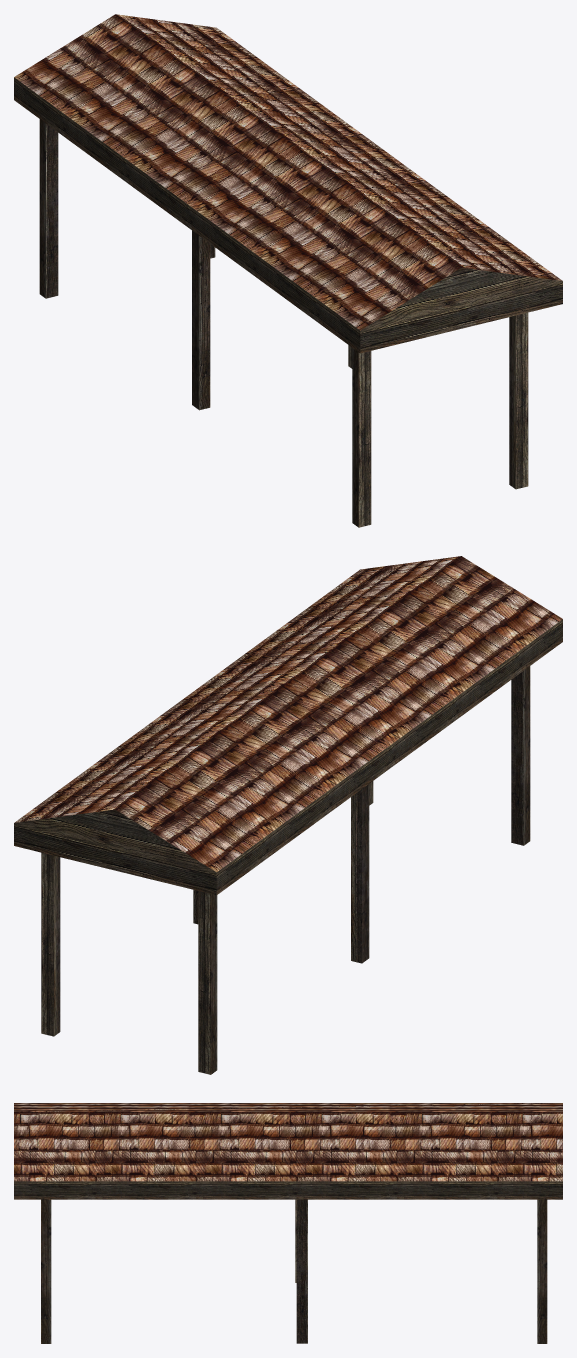
File: loc2_12.glb
3 views of the same model, one above another, from view 1: azimuth 30°, elevation 25°; view 2: azimuth 150°, elevation 25°; view 3: azimuth 270°, elevation 25° (orthographic). The views are drawn at different scales.
Visible parts, largest first — view 1: loc2_12-col; view 2: loc2_12-col; view 3: loc2_12-col.
Boxes of the visible parts, x1=… form: loc2_12-col: x1=14, y1=14, x2=562, y2=527; loc2_12-col: x1=14, y1=556, x2=562, y2=1074; loc2_12-col: x1=14, y1=1103, x2=562, y2=1343.
Bounding box in the file's own units: 5.54 × 6.58 × 16.39.
Materials: 3 (3 with a texture image).
